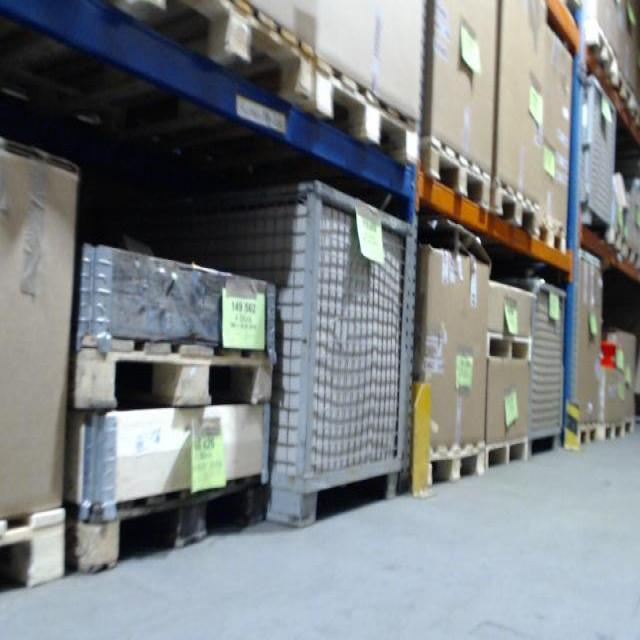pallet: (110, 1, 308, 105), (68, 471, 275, 570), (70, 328, 273, 408), (307, 54, 423, 171), (0, 504, 69, 596), (420, 134, 492, 216), (420, 439, 487, 492), (583, 14, 621, 92), (495, 177, 542, 240), (482, 433, 531, 477), (482, 330, 535, 362), (539, 212, 568, 253), (574, 421, 603, 450), (598, 417, 626, 446)
stillage: (142, 163, 413, 532), (503, 266, 562, 456), (573, 74, 622, 246)
